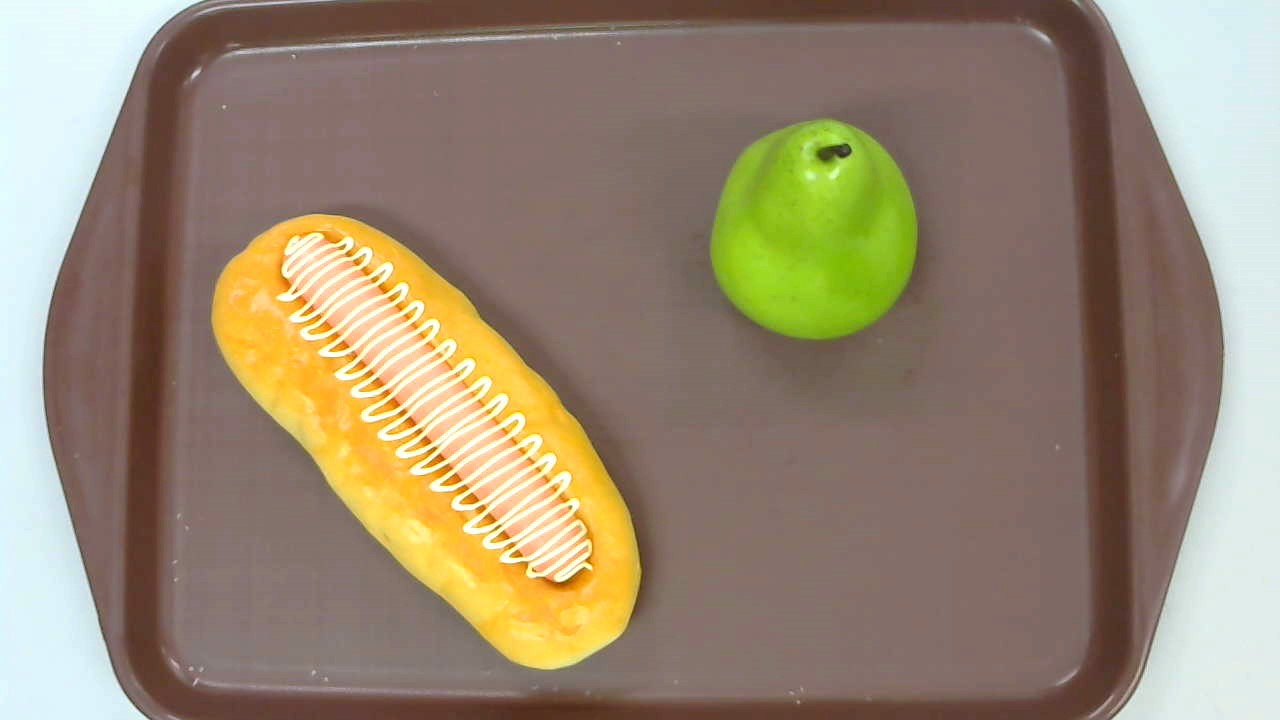green pear: (710, 116, 919, 342)
hot dog: (210, 213, 642, 670)
